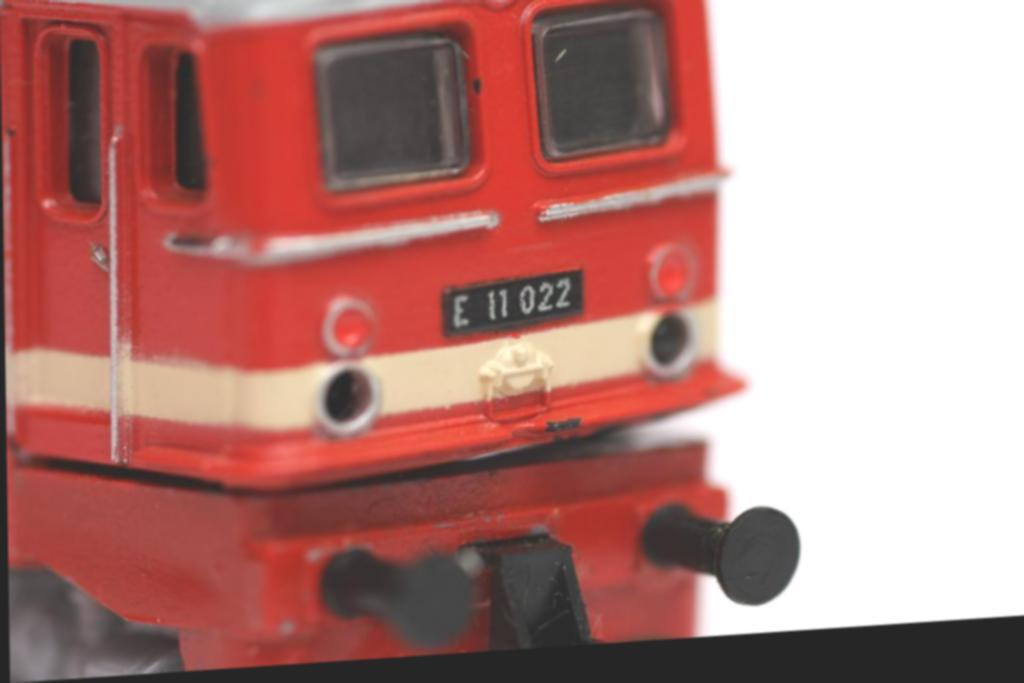License_Plate: (441, 269, 585, 337)
